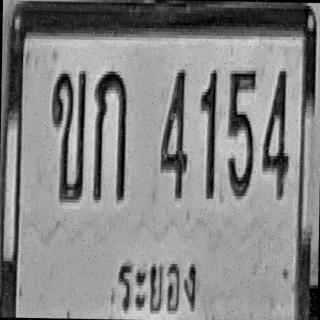A01: (91, 59, 136, 216)
A02: (47, 61, 92, 214)
N01: (189, 58, 228, 215)
N04: (147, 58, 193, 215), (261, 56, 293, 208)
N05: (222, 55, 259, 213)
P53: (106, 232, 204, 320)
